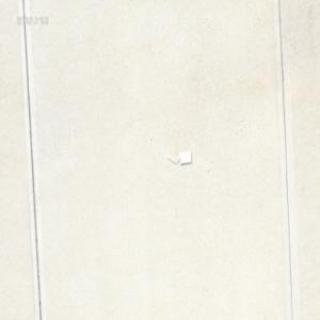LuggageTagtrack_idkeyframe: (164, 148, 191, 166)
